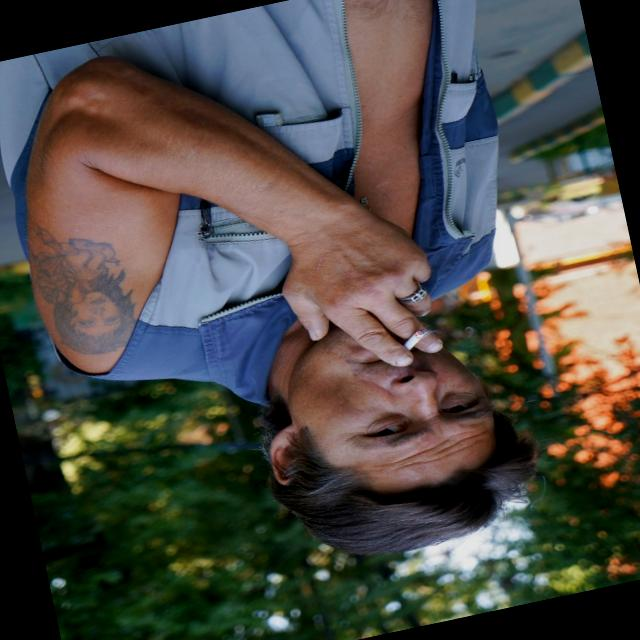smoke: (398, 322, 434, 357)
